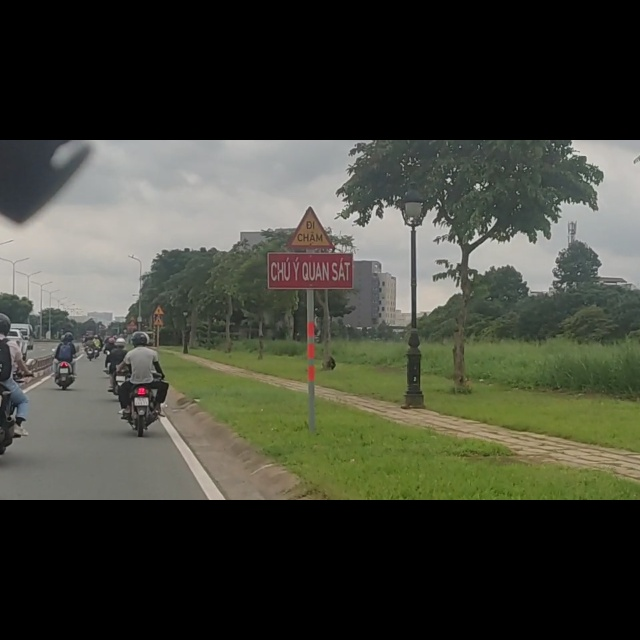bien_nguy_hiem: (287, 116, 335, 192), (153, 293, 165, 311), (153, 313, 165, 331)
